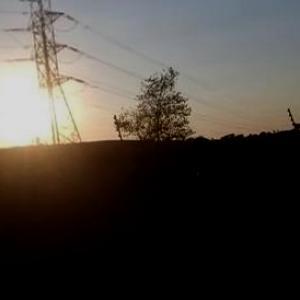follow: (160, 124, 244, 299)
